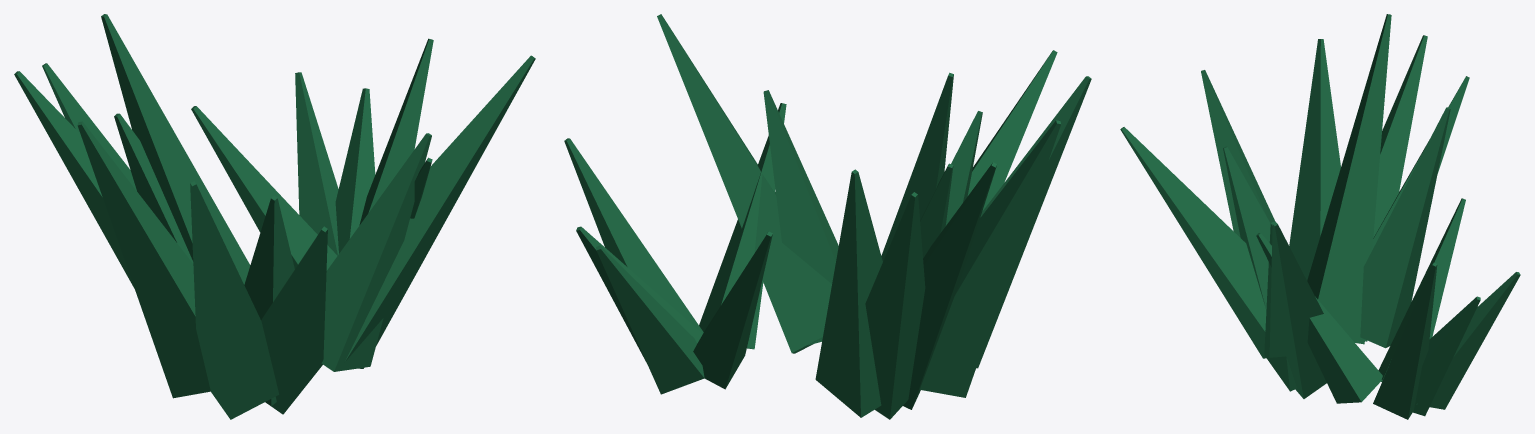
Rendered from prop-grass.glb.
The picture shows the model from 3 angles, left to right: view 1: azimuth 30°, elevation 25°; view 2: azimuth 150°, elevation 25°; view 3: azimuth 270°, elevation 25°; orthographic projection. The views are drawn at different scales.
Parts seen in each view (by area): view 1: prop-grass; view 2: prop-grass; view 3: prop-grass.
Boxes of the visible parts, x1=… form: prop-grass: x1=14, y1=14, x2=535, y2=419; prop-grass: x1=564, y1=14, x2=1091, y2=419; prop-grass: x1=1120, y1=14, x2=1520, y2=419.
Size of the model in its own units: 0.1775 by 0.1455 by 0.1737.
